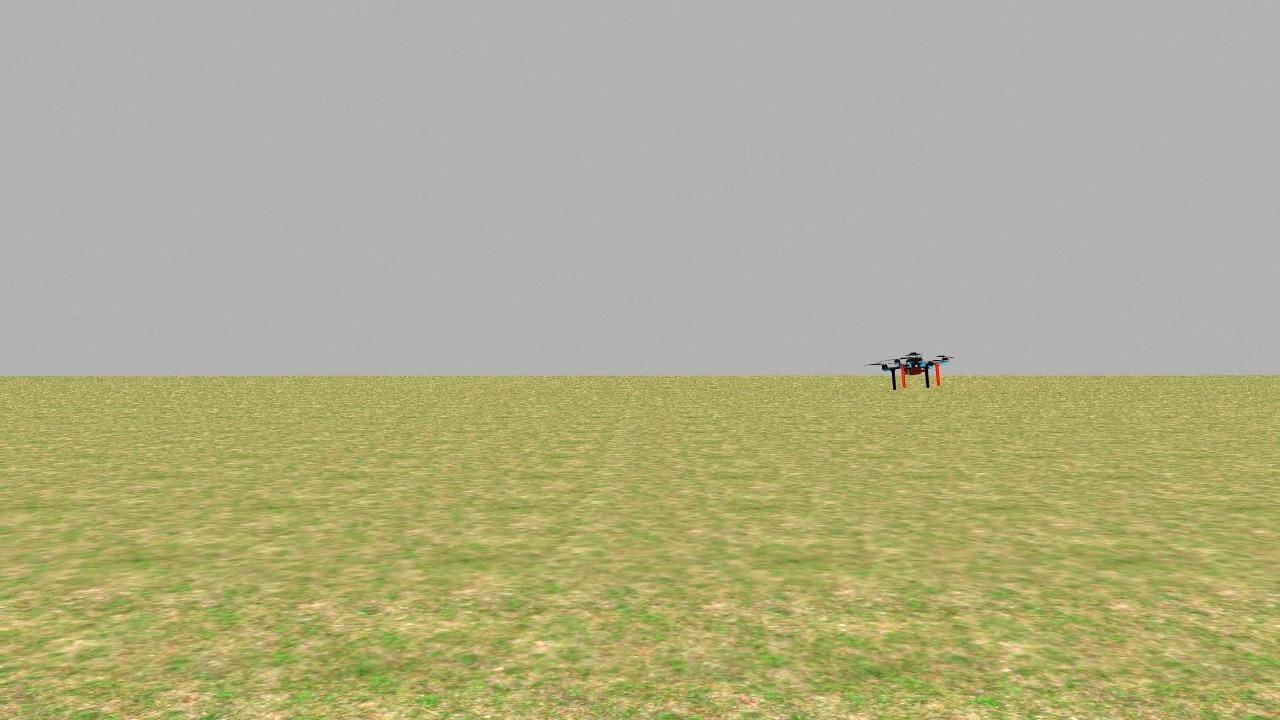UAV: (874, 344, 956, 398)
